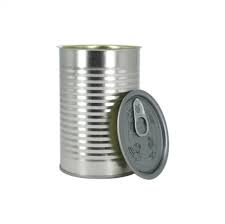can: (52, 40, 172, 181)
